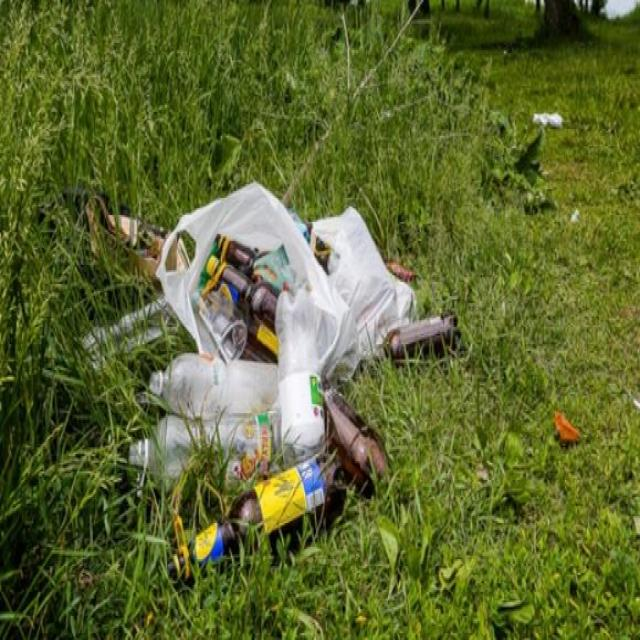dry: (152, 178, 364, 385), (311, 203, 421, 363), (142, 343, 301, 444), (118, 406, 290, 490), (531, 102, 566, 137)
